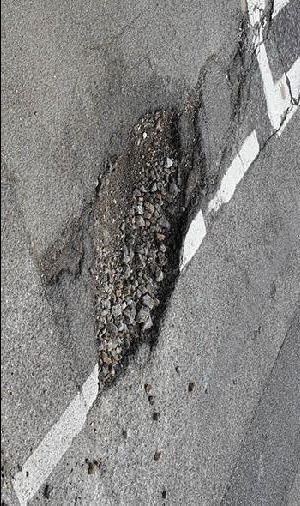pothole: (87, 105, 203, 397), (35, 226, 87, 289), (224, 17, 253, 116)
